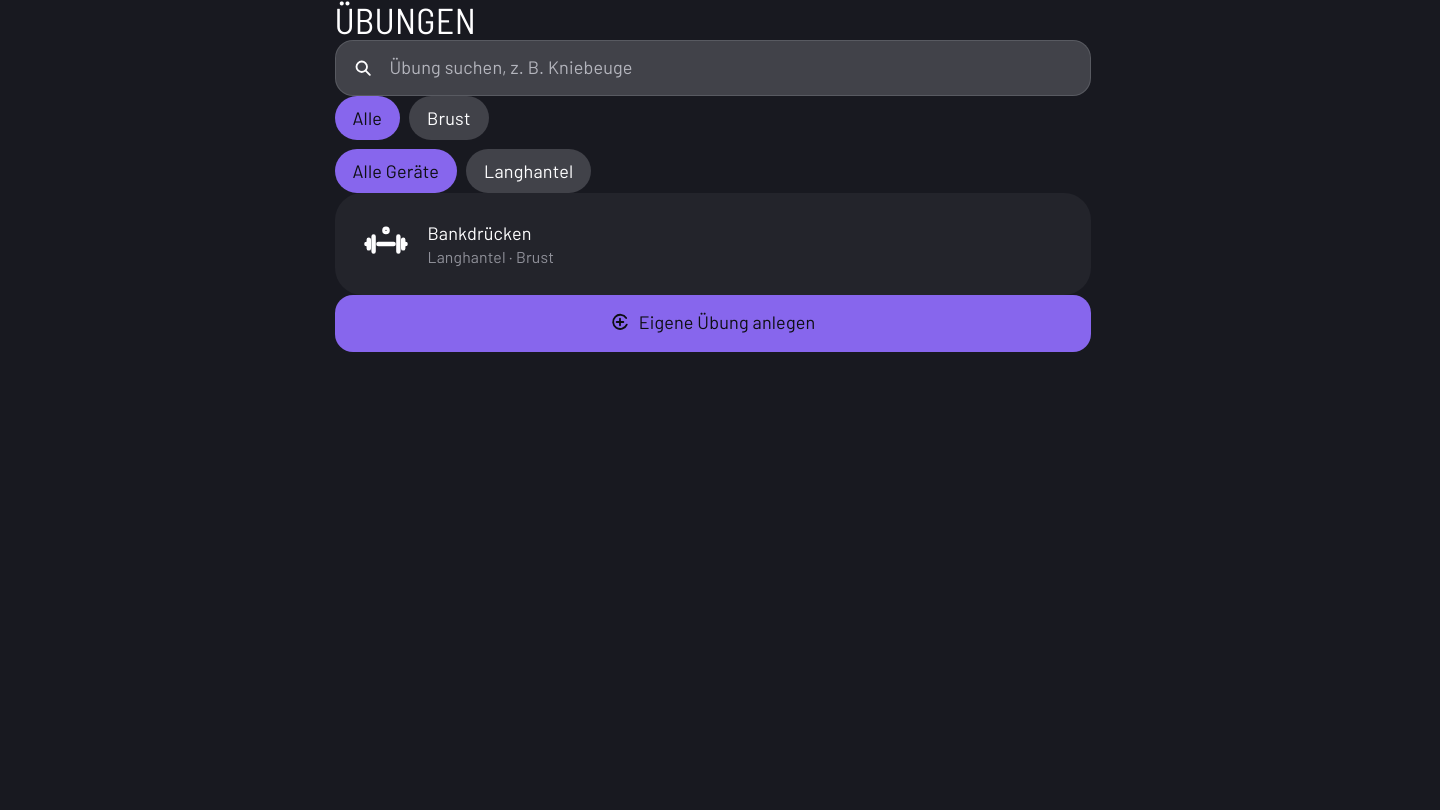
Test: ExercisesPage › opens the detail dialog with the exercise details when a row is clicked
Step 1. Click the button "Bankdrücken Langhantel · Brust" → (386, 244), box [334,193,1090,295]
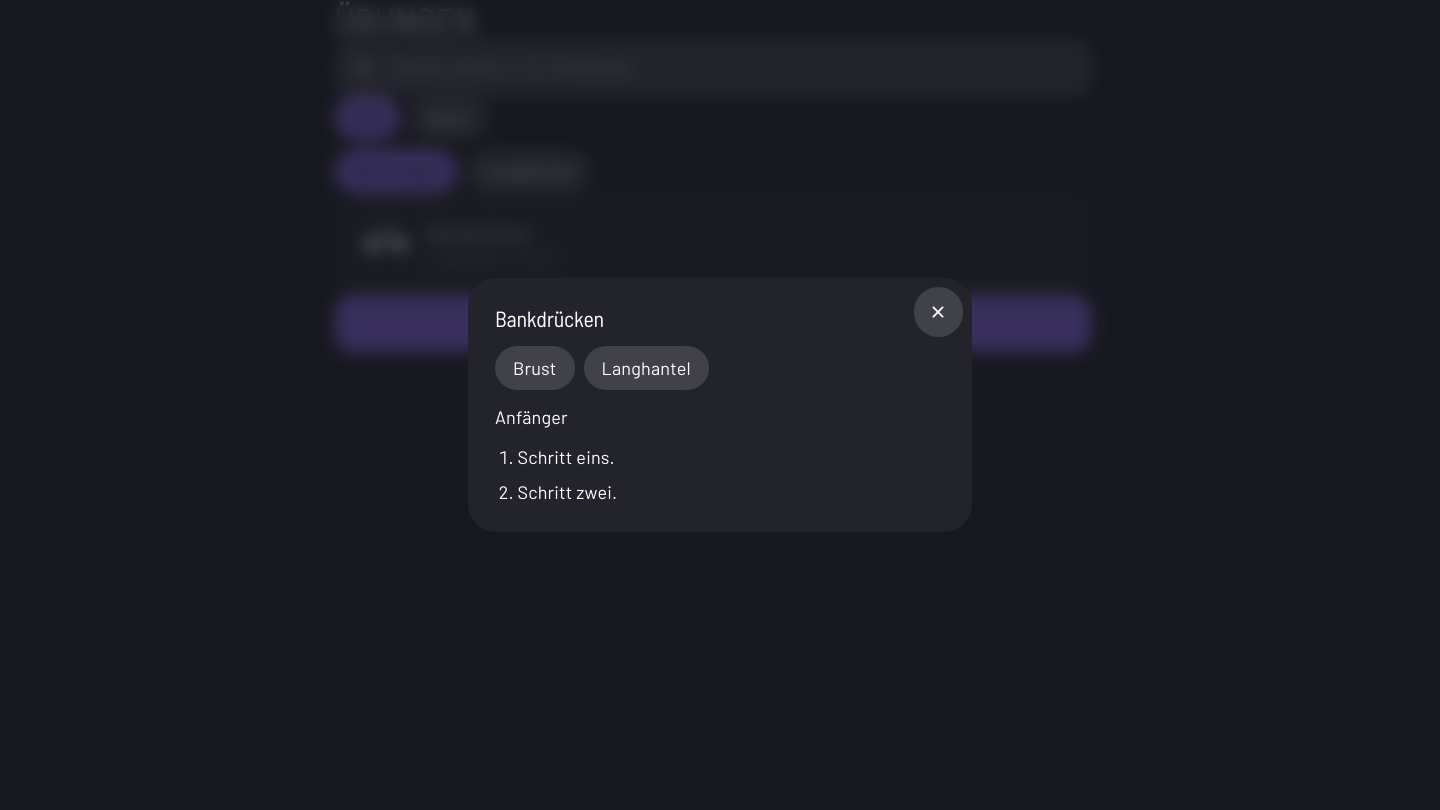
Now the list item "Schritt eins." is shown, box [518,446,615,468]
Now the list item "Schritt zwei." is shown, box [518,481,617,503]
